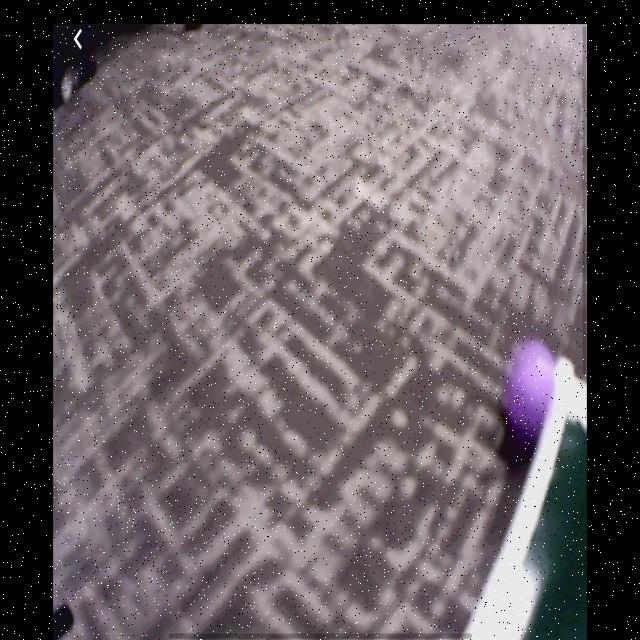ball: (498, 336, 558, 468)
